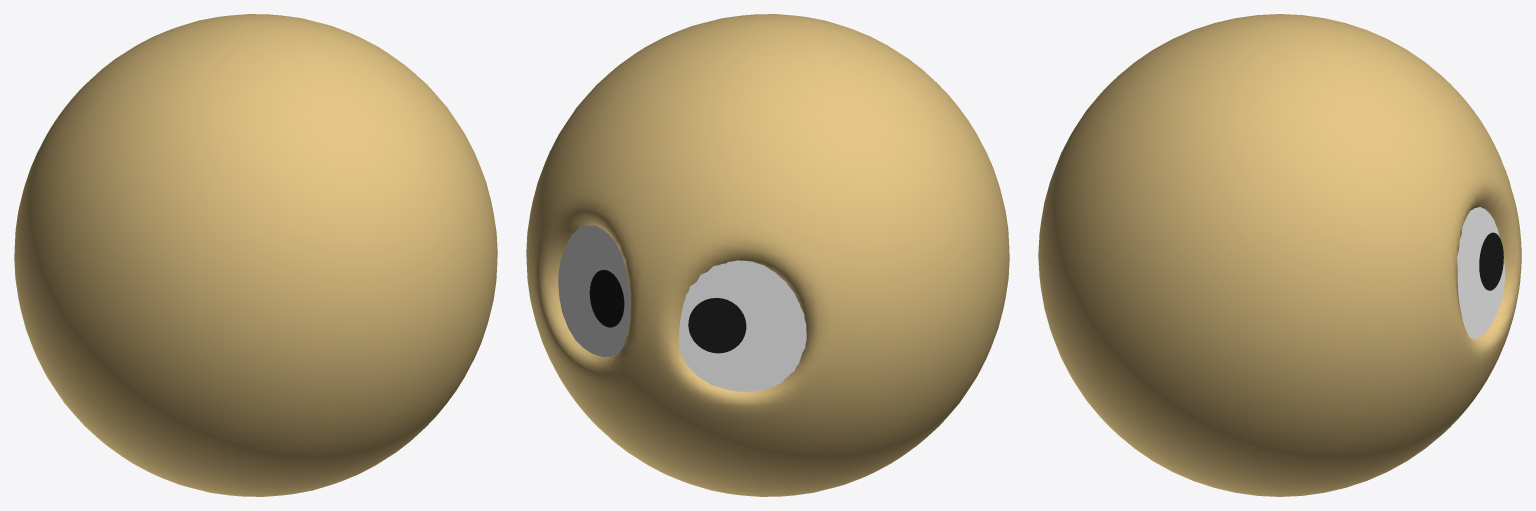
The model's file is KolobokHead.fbx.
The picture shows the model from 3 angles, left to right: view 1: azimuth 30°, elevation 25°; view 2: azimuth 150°, elevation 25°; view 3: azimuth 270°, elevation 25°; orthographic projection.
Visible parts, largest first — view 1: Head.001; view 2: Head.001; view 3: Head.001.
Boxes of the visible parts, x1,y1,x2,y2 form: Head.001: (14,14,497,496); Head.001: (526,14,1009,496); Head.001: (1038,14,1521,496).
Size of the model in its own units: 350 by 350 by 350.
1 material, 1 textured.
